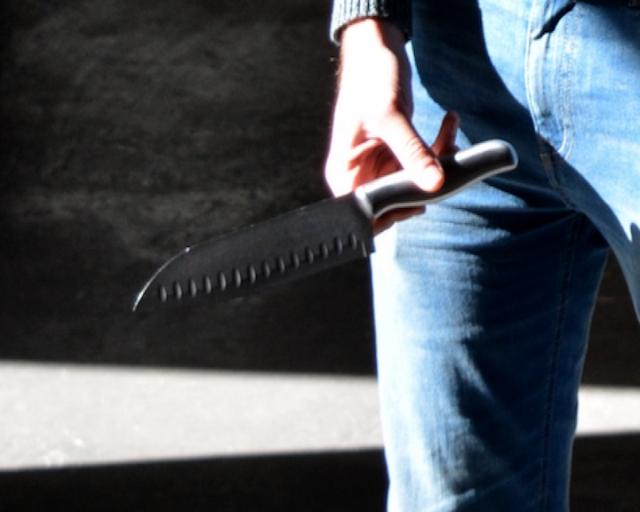long knife: (138, 170, 536, 326)
